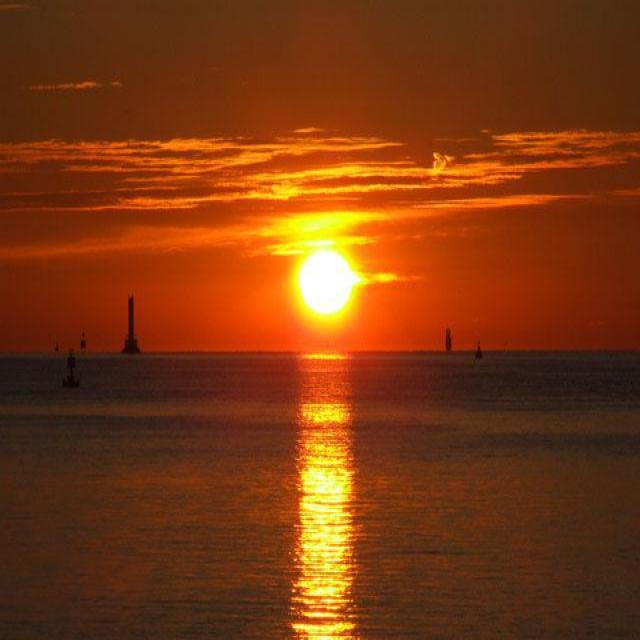other: (287, 376, 363, 599), (267, 210, 395, 331)
